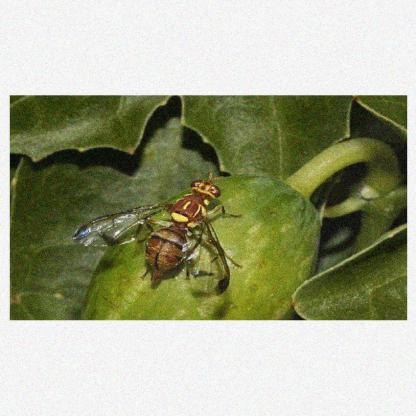fruit fly: (76, 174, 232, 299)
